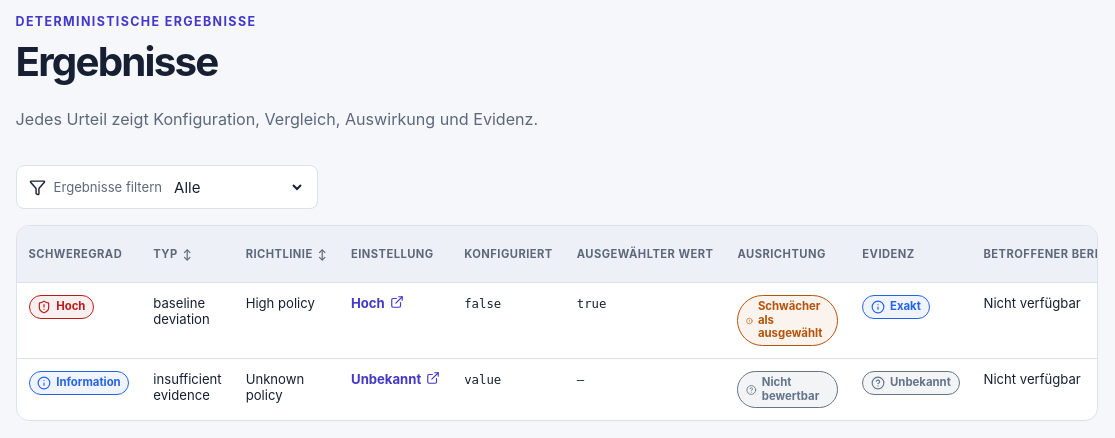
Test: findings filters › filters by severity and not-evaluable state without recalculating the audit
Expected: the text "High policy" is shown, [234,283,339,358]
Expected: the text "Unknown policy" is shown, [234,358,339,420]
Select "Nicht bewertbar" in the dropdown at (238, 187), box [170,177,305,198]
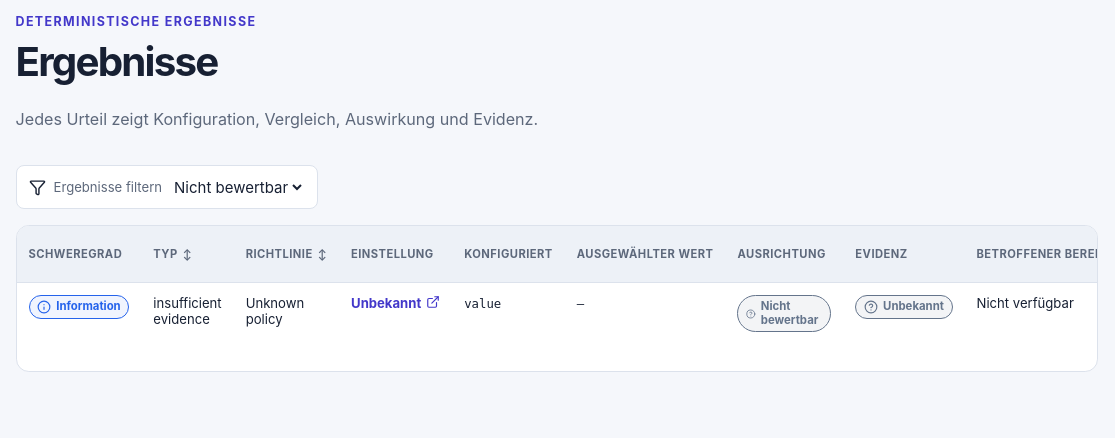
Expected: the text "High policy" is gone
Expected: the text "Unknown policy" is shown, [234,283,339,371]
Select "Hoch" in the dropdown at (238, 187), box [170,177,305,198]
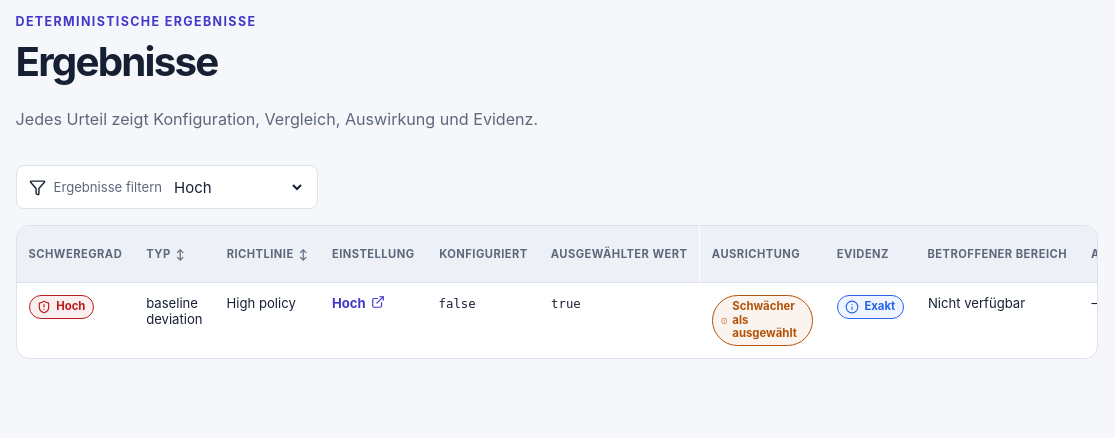
Expected: the text "High policy" is shown, [214,283,320,358]
Expected: the text "Unknown policy" is gone
